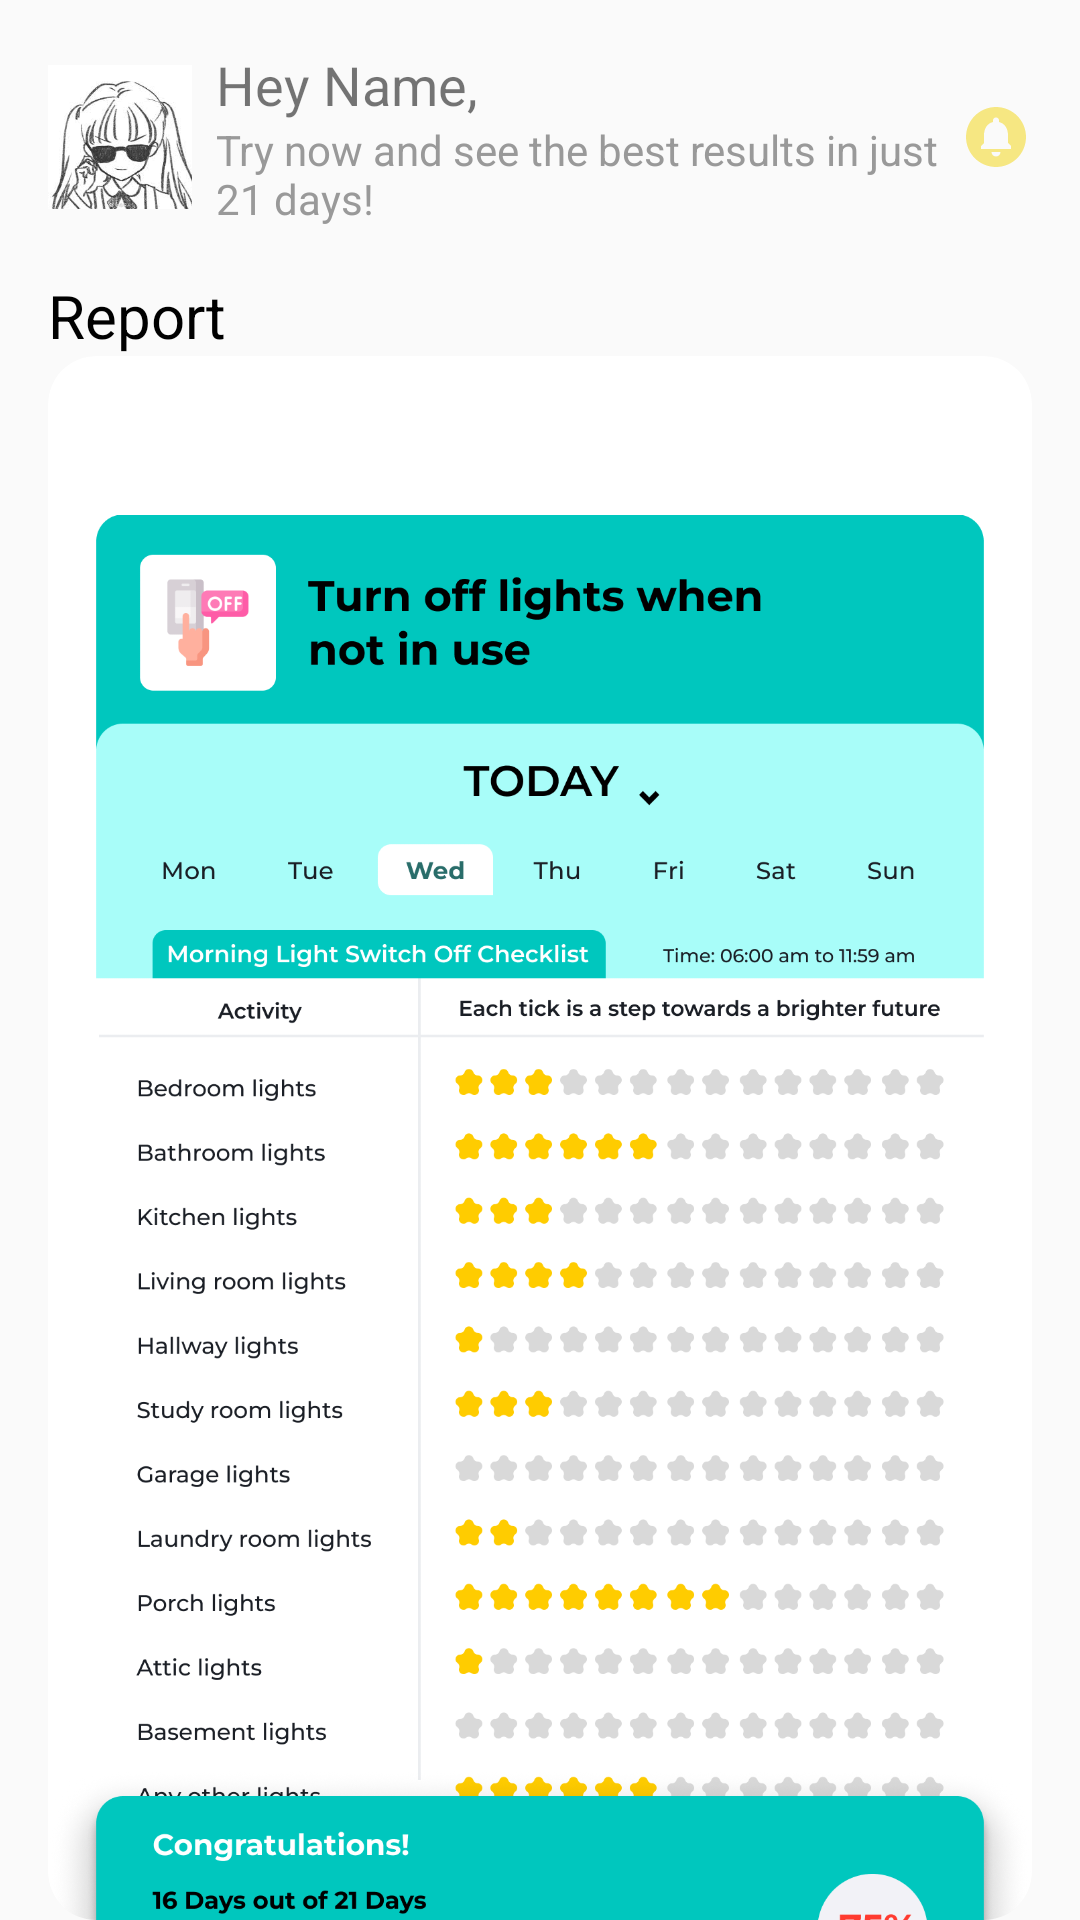

Where icons sit on this 1080w x 1920h app screen, as (x1, y1, x2, y2):
notifications: (966, 107, 1026, 167)
